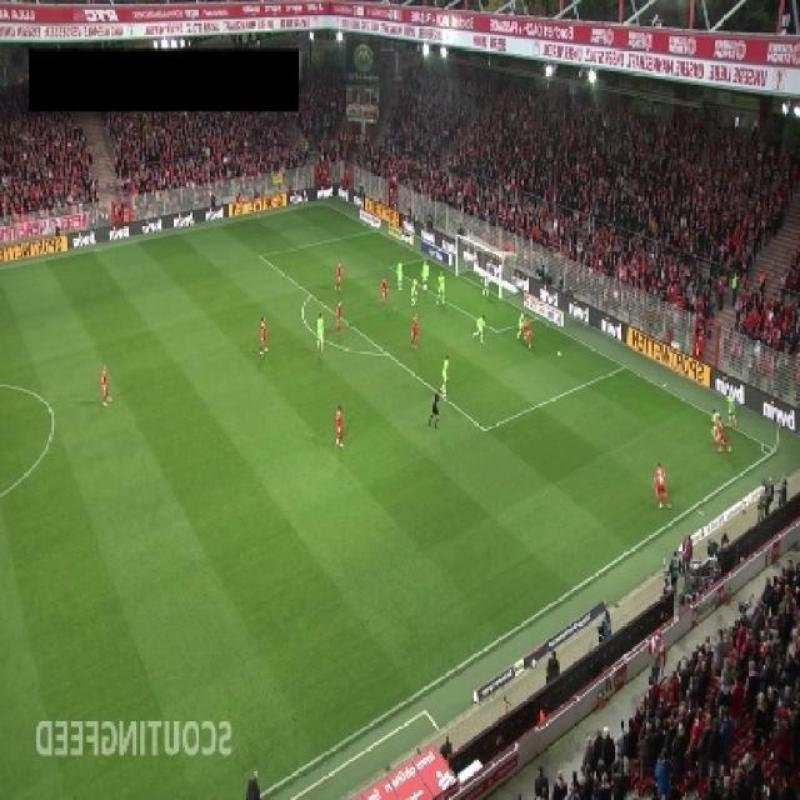1: (312, 192, 332, 209)
10: (302, 283, 320, 302)
11: (377, 344, 397, 364)
12: (474, 413, 494, 441)
2: (365, 219, 385, 236)
3: (420, 248, 438, 267)
4: (528, 308, 546, 328)
5: (613, 353, 637, 378)
7: (381, 258, 399, 276)
8: (490, 318, 508, 338)
9: (250, 244, 270, 266)
c: (38, 399, 66, 434)
